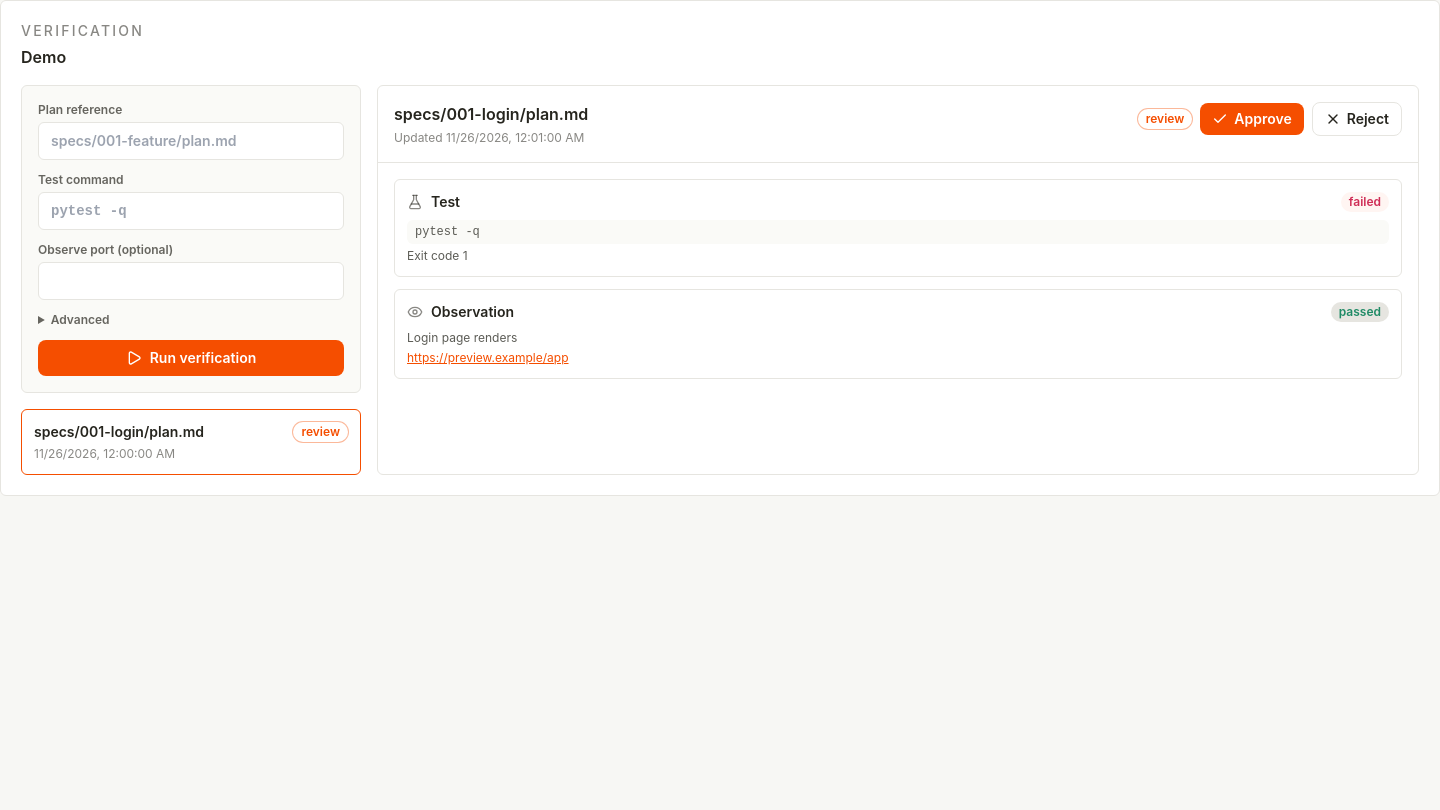
Test: VerificationPanel › refreshes the run after a gate conflict
This screenshot has width=1440, height=810.
Click the button "Approve".
click(1252, 119)  # box 1200,103 -> 1304,135
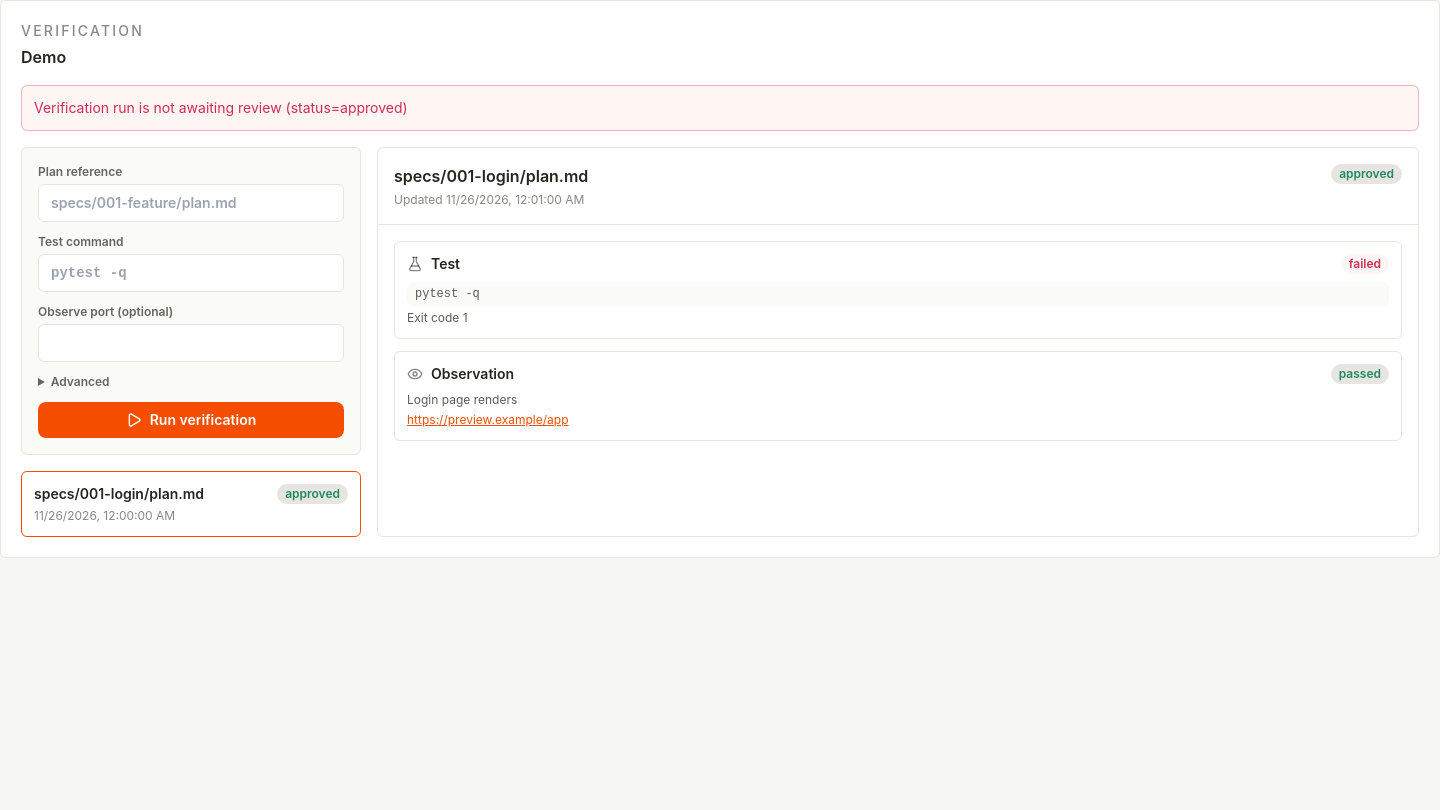
Expected: the message shows "not awaiting review", 34,99 -> 408,116
